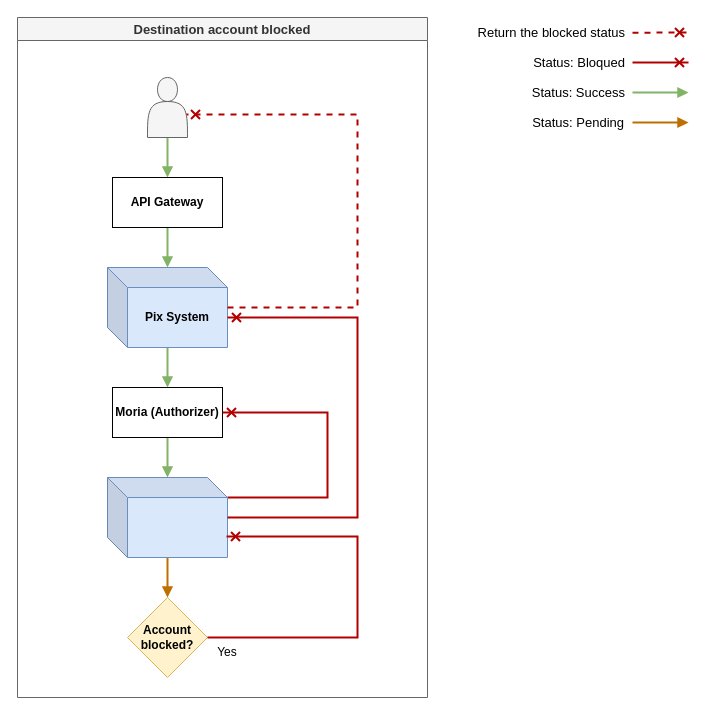
Some shapes in this 715 by 715 pixel diagram are drawn without their labels. Each missing label, with the centre of its shape:
"Client" goes at [167,107].
"Ledger" goes at [167,517].
